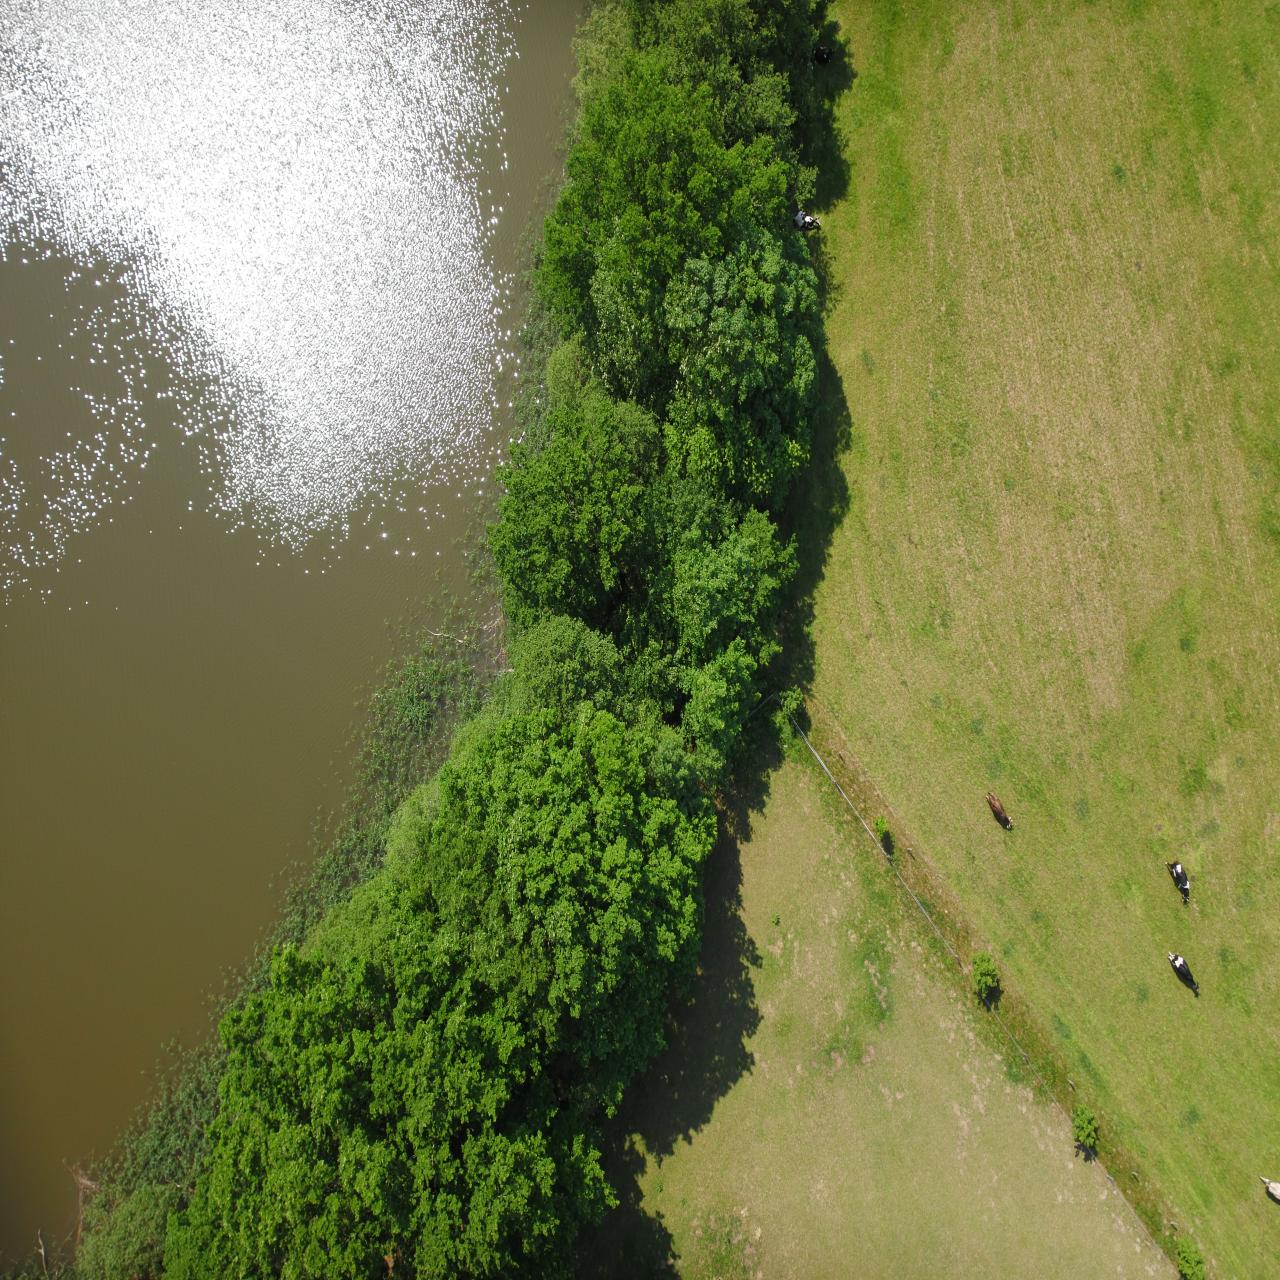cow: (81, 288, 113, 327), (267, 447, 294, 489), (90, 377, 115, 421), (459, 1050, 486, 1069)
